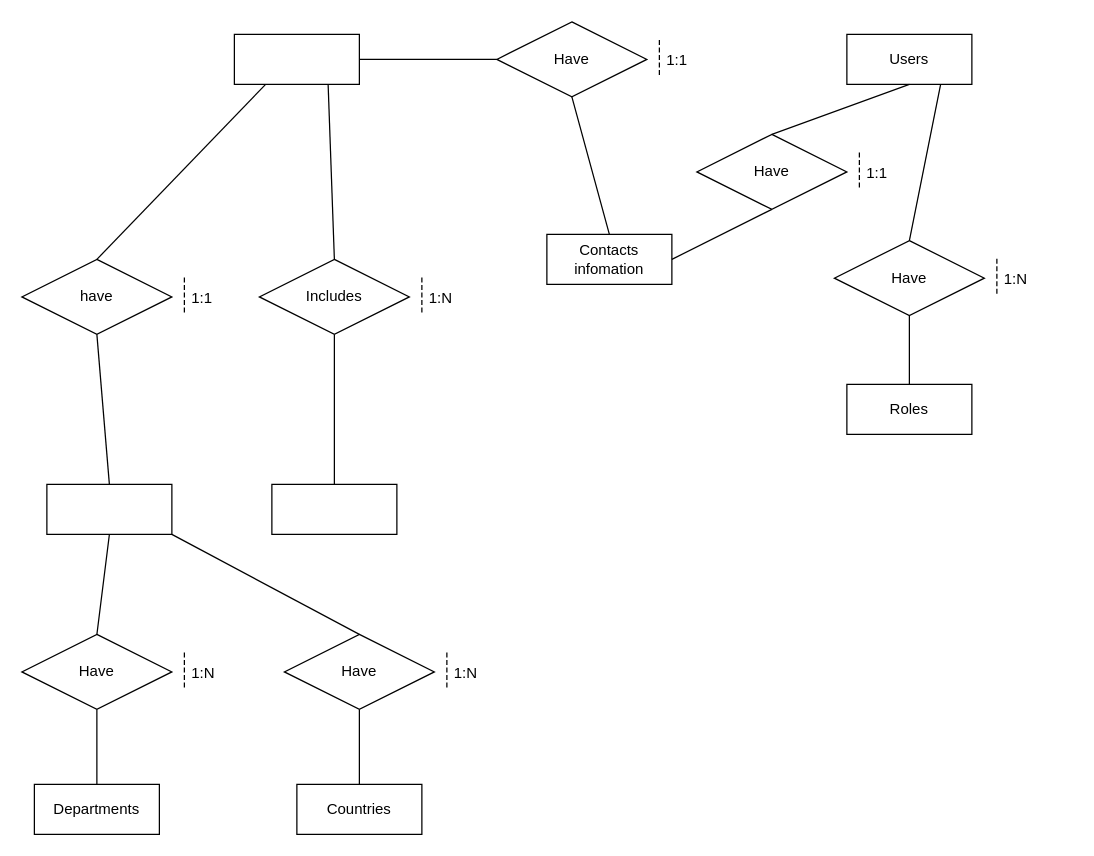
The diagram is 1094 pixels wide and 856 high, and some of its shapes have lost their labels. Here are the shapes that lost their labels. From the top down, the centre of each, then its label:
At [296,58]: "Services".
At [109,508]: "Locations".
At [334,508]: "Services type".
